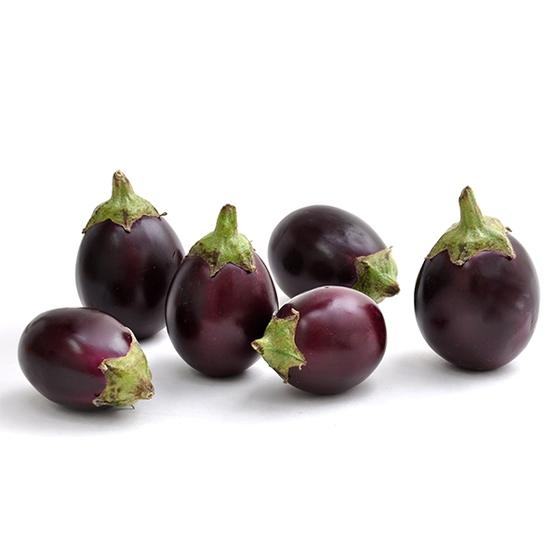eggplant: (414, 203, 541, 381), (163, 227, 281, 387), (72, 187, 189, 329), (247, 290, 390, 403), (17, 308, 156, 412), (271, 197, 400, 303)
